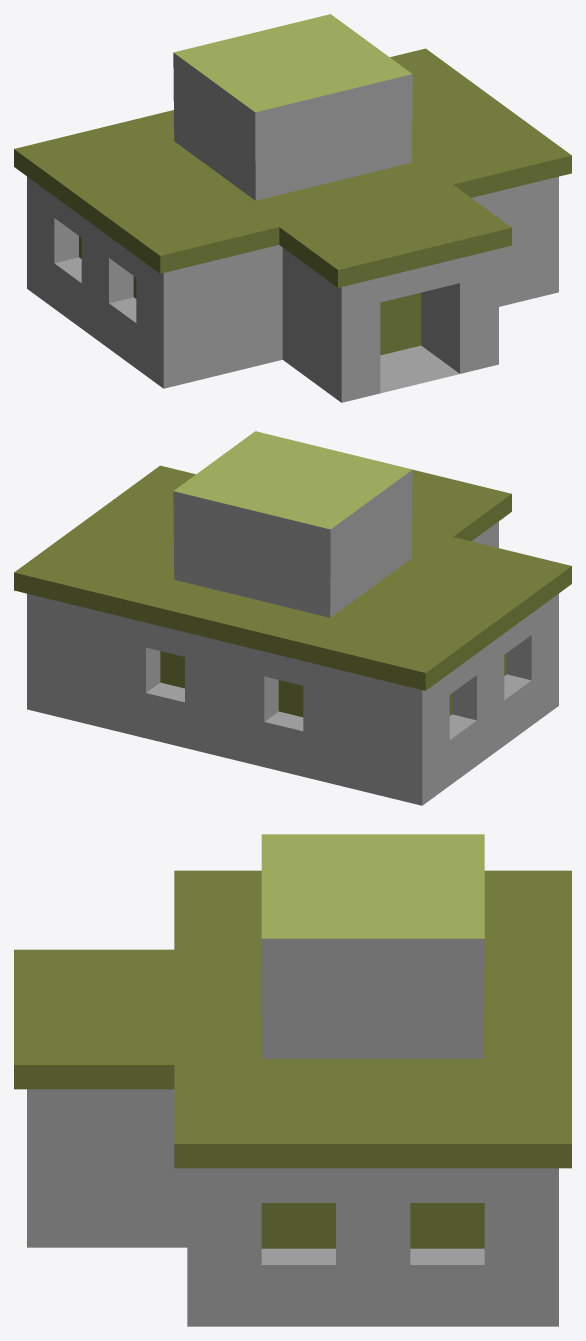
Rendered from Barrack.fbx.
3 renders of one model, top to bottom at view 1: azimuth 30°, elevation 25°; view 2: azimuth 150°, elevation 25°; view 3: azimuth 270°, elevation 25°, orthographic. The views are drawn at different scales.
Visible parts, largest first — view 1: Barrack; view 2: Barrack; view 3: Barrack.
Part boxes in pixels (<box>): Barrack: <box>14,14,571,402</box>; Barrack: <box>14,431,571,805</box>; Barrack: <box>14,834,571,1326</box>.
Bounding box in the file's own units: 1.9 × 1 × 1.64.
